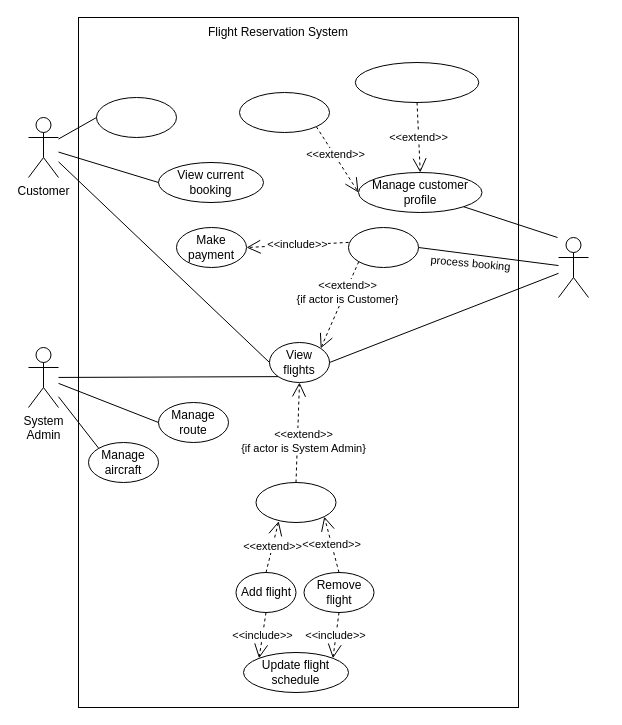
Image size: 622x725. Some labels were removed from this diagram. The shapes that lost their labels are listed below. From the top down, each one's centre as x and y in pixels, then its label:
At pixel 416 82: "Manage payment record".
At pixel 136 117: "View flight history".
At pixel 284 112: "Modify booking".
At pixel 383 247: "Book a flight".
At pixel 573 267: "Flight Agent".
At pixel 295 502: "Modify flight".
